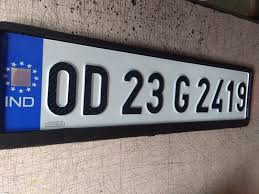numberplate: (2, 21, 255, 145)
